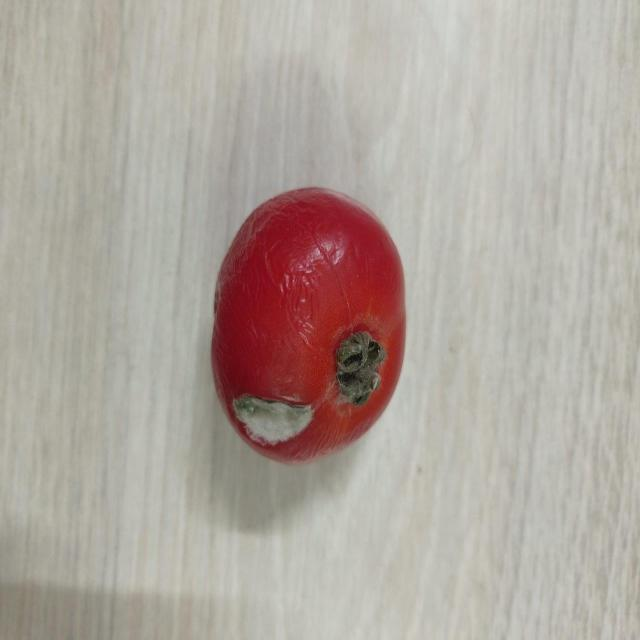Rotten: (210, 186, 406, 462)
